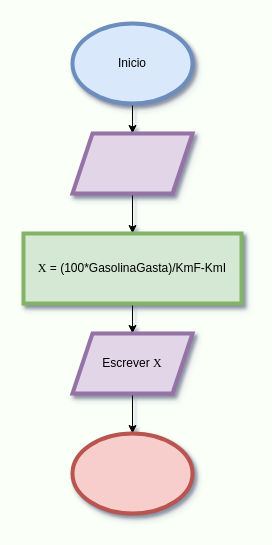
Some shapes in this 272 by 545 pixel diagram are drawn without their labels. The centre of each missing label's shape, as x and y in pixels:
"Fim" goes at (x=133, y=474).
"Ler KmF, KmI, GasolinaGasta" goes at (x=133, y=164).
